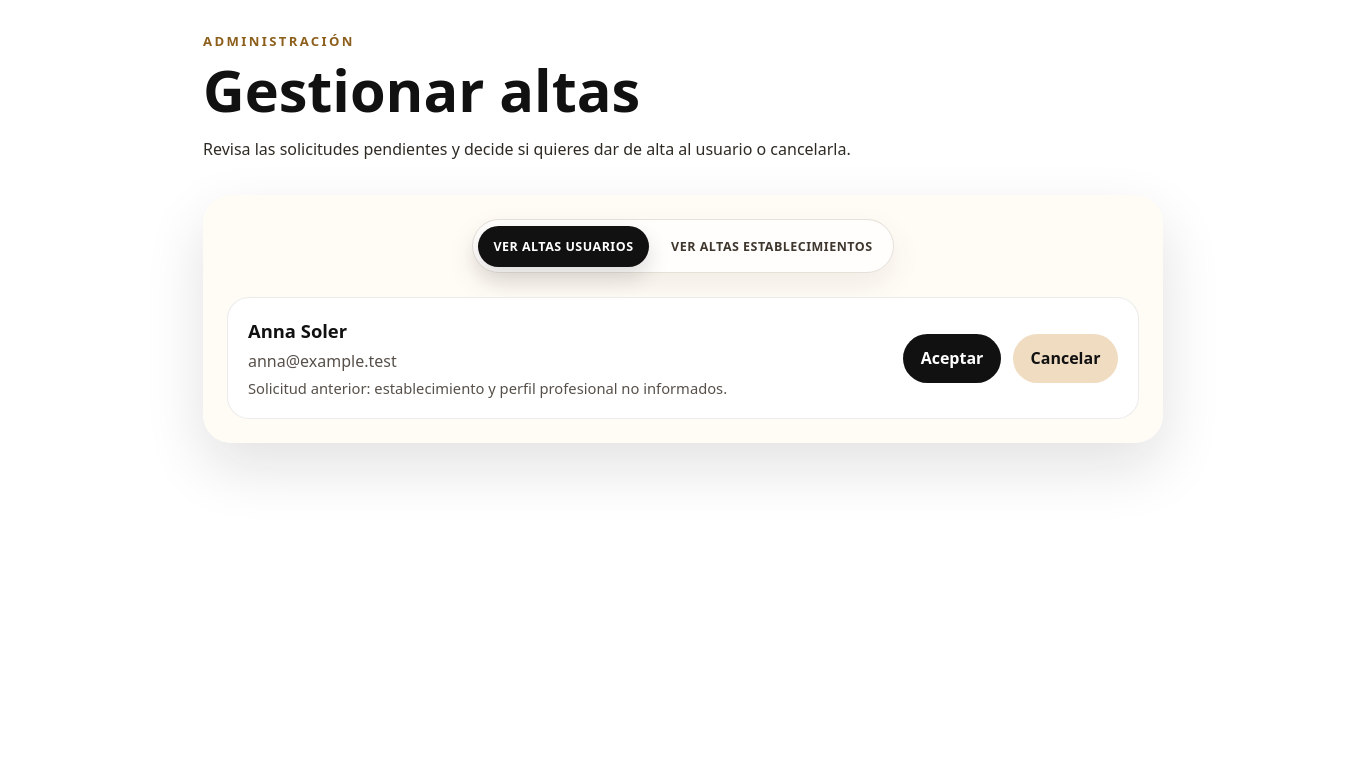
Scenario: legacy requests do not claim a restaurant or link was created
Expected: the heading "Anna Soler" is shown, 248,318 -> 347,343
Click the button "Aceptar": [952, 358] box 903,334 -> 1001,383
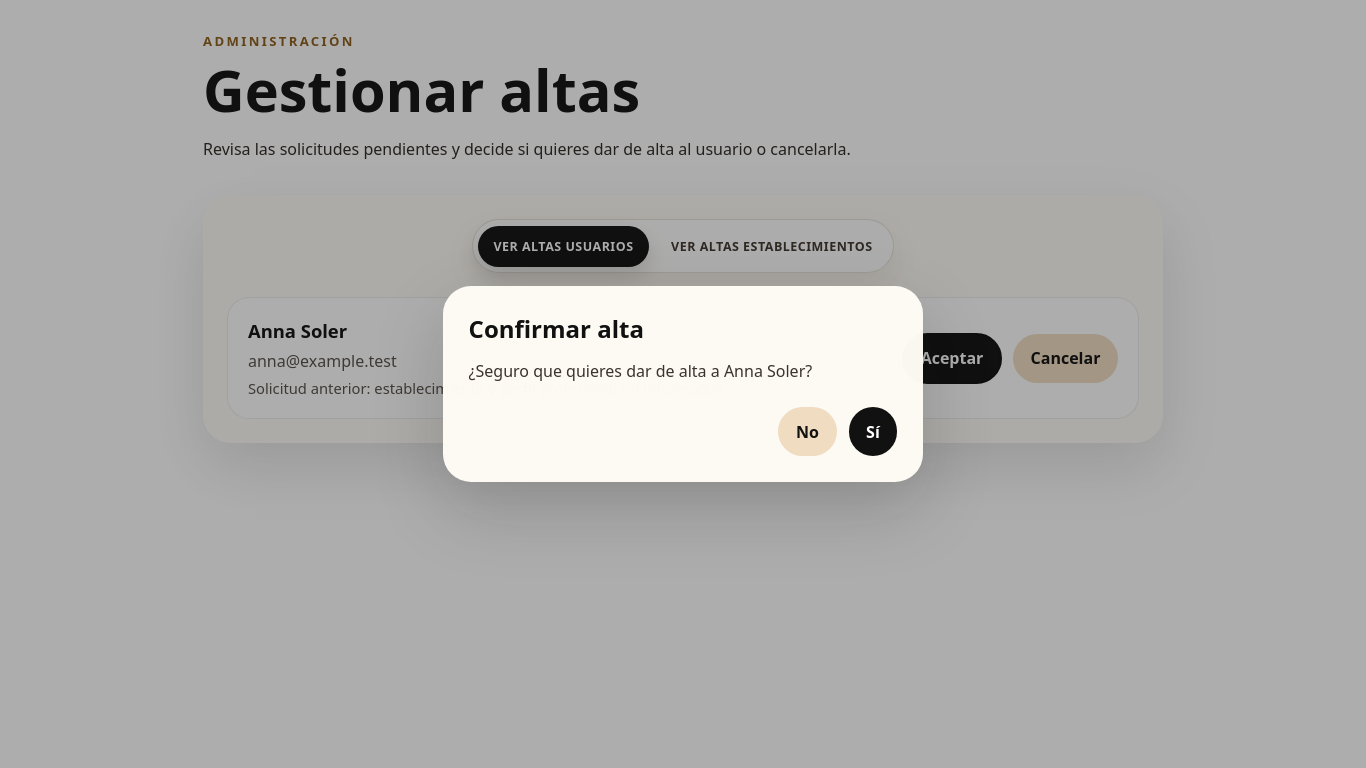
Click the button "Sí": [873, 432] box 848,407 -> 897,456
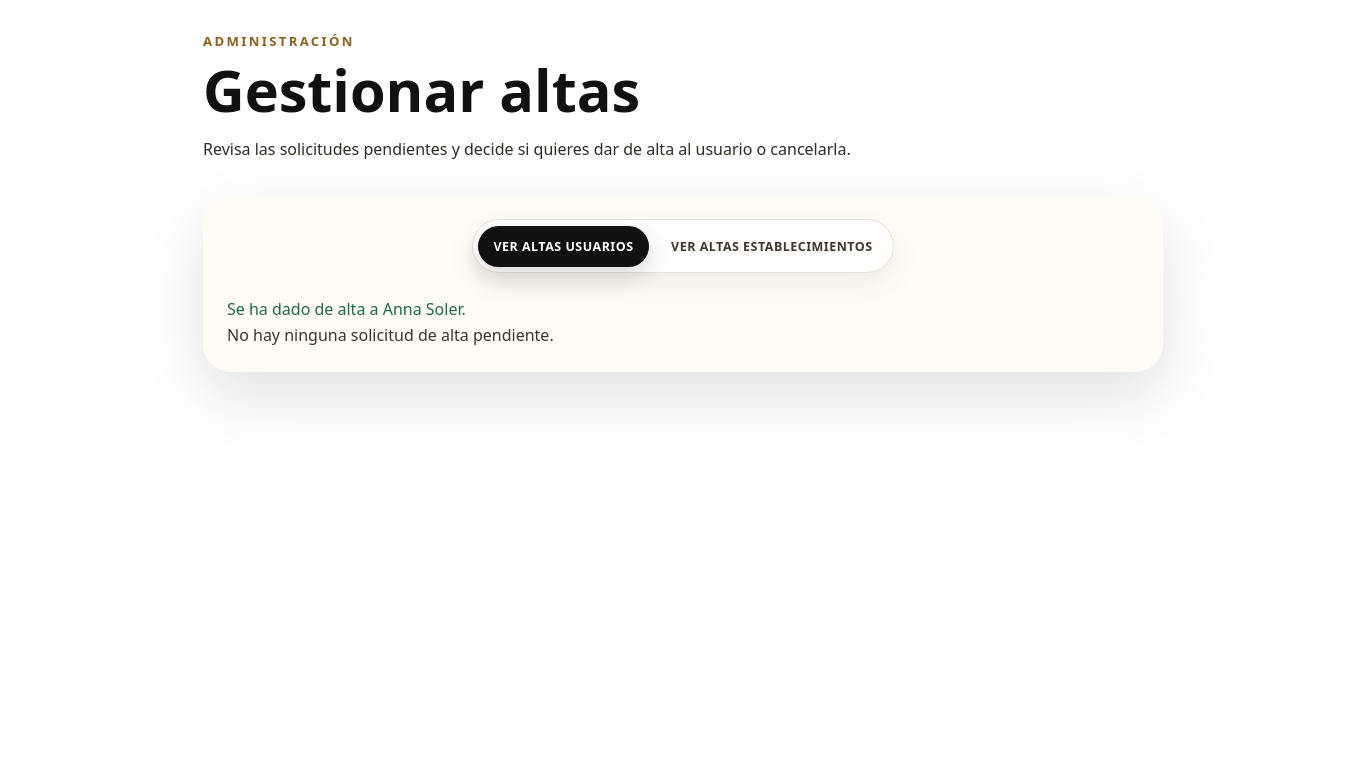
Expected: the message does not show "establecimiento", 227,298 -> 466,320
Expected: the dialog is gone
Expected: the message reads "Se ha dado de alta a Anna Soler.", 227,298 -> 466,320
